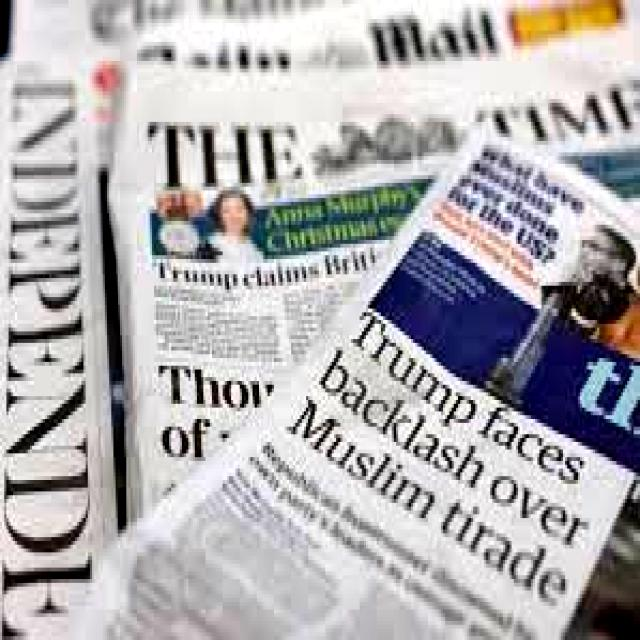paper: (0, 0, 640, 638), (17, 108, 640, 640)
